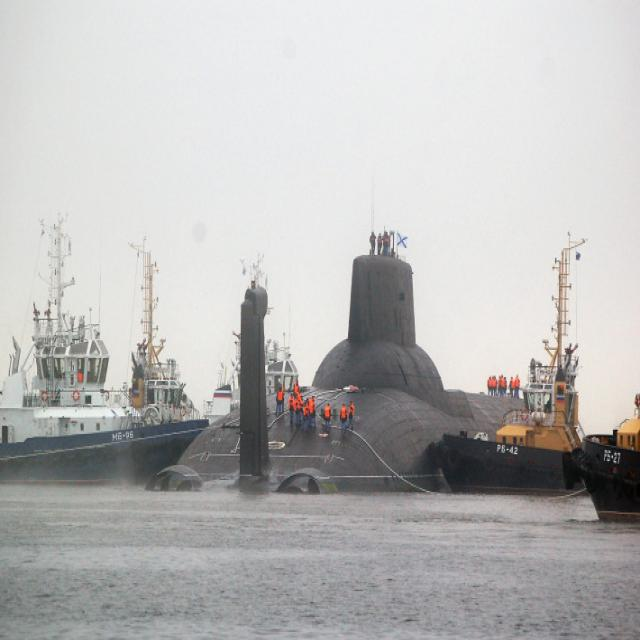submarine: (156, 252, 538, 488)
